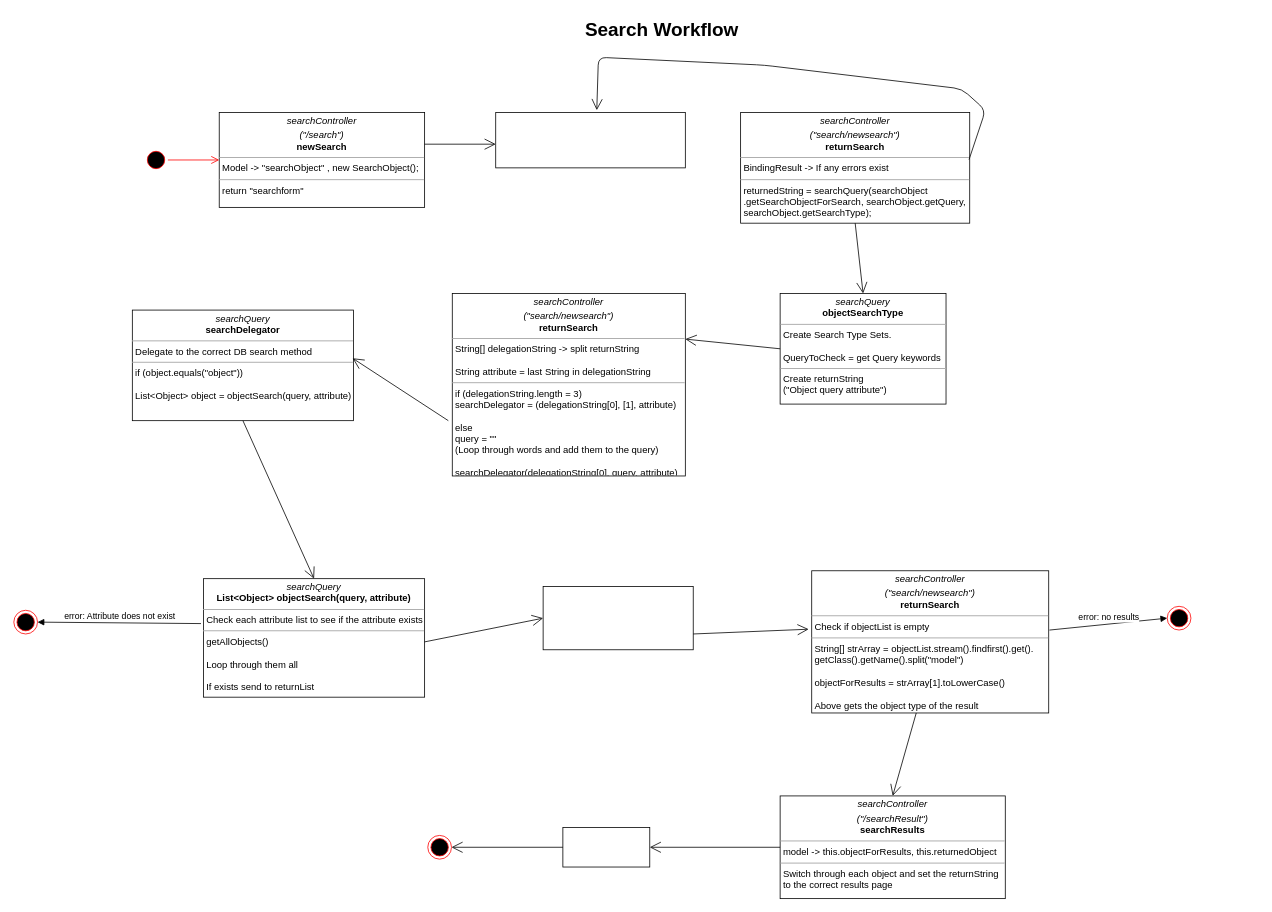
This 1272x912 diagram has some shape labels left out. Here are the shapes that lost their labels. From the top down, the box of each, then its label:
(495, 112, 685, 168): form searchForm query, searchObjectForSearch, searchType
(542, 586, 693, 650): searchQuery searchDelegator return objectList
(562, 827, 650, 867): Display Results
